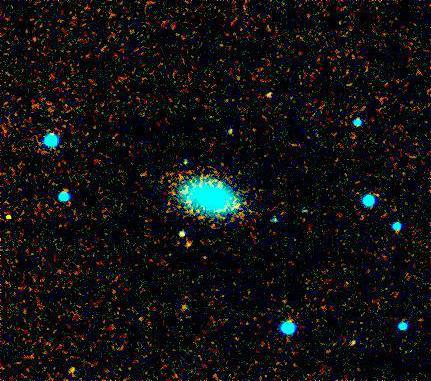star: (0, 207, 26, 237)
